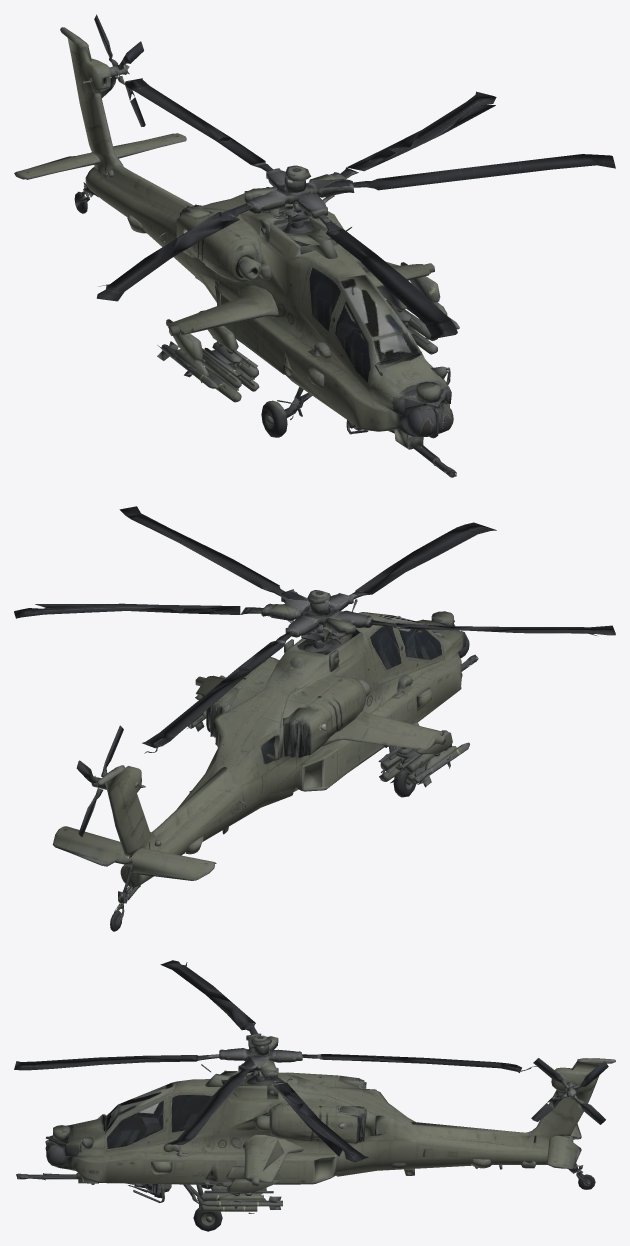
Rendered from heli_attack.glb.
3 views of the same model, one above another, from view 1: azimuth 30°, elevation 25°; view 2: azimuth 150°, elevation 25°; view 3: azimuth 270°, elevation 25° (orthographic). The views are drawn at different scales.
Parts seen in each view (by area): view 1: hull, P_rotor; view 2: hull, P_rotor; view 3: hull, P_rotor.
Boxes of the visible parts, x1=… form: hull: x1=14, y1=14, x2=459, y2=477; P_rotor: x1=96, y1=41, x2=615, y2=339; hull: x1=52, y1=611, x2=478, y2=931; P_rotor: x1=14, y1=506, x2=615, y2=753; hull: x1=16, y1=1058, x2=615, y2=1231; P_rotor: x1=14, y1=960, x2=538, y2=1162.
Size of the model in its own units: 12.86 by 5.36 by 17.
3 materials, 3 textured.
